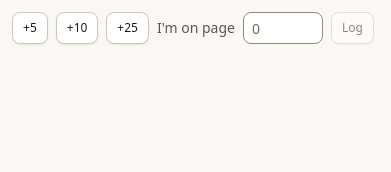
QuickLog › logs pages with one tap and starts a to-read book
Click the button named "Log 10 more pages of Deep Work": [77, 28] box left=56, top=12, right=98, bottom=44
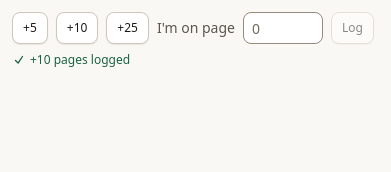
Expected: the text "+10 pages logged" is shown, left=12, top=52, right=130, bottom=68
